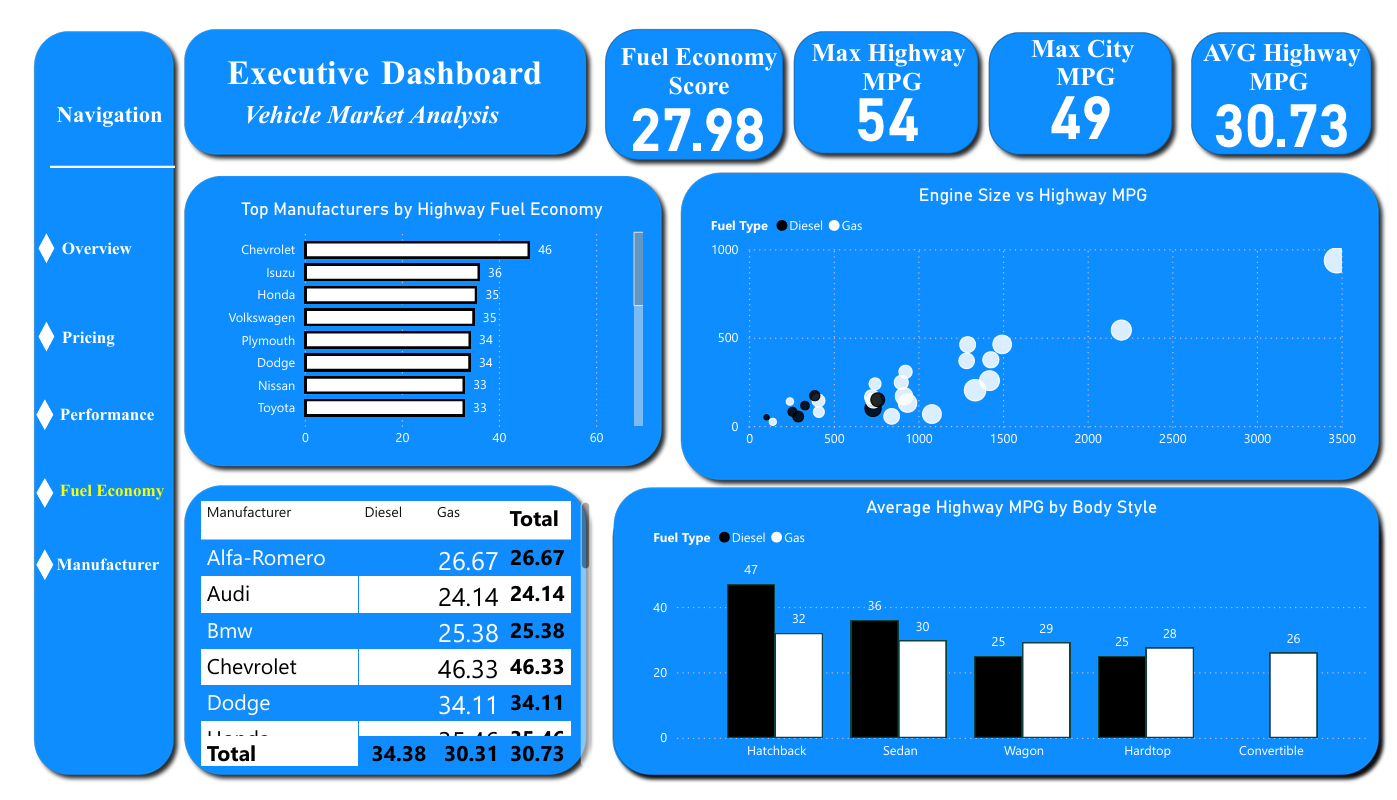

Layout of this report page (visuals, bound fields, positions):
{"tool":"powerbi","page":{"name":"Fuel Economy Analysis","canvas":[1280,720],"ordinal":3},"visuals":[{"type":"shape","box":[543.4,443.5,736.6,275.8],"z":0},{"type":"shape","box":[141.1,429.4,394.9,289.9],"z":1000},{"type":"shape","box":[606.5,134.8,673.9,307.2],"z":2000},{"type":"shape","box":[141.1,0,394.9,136.3],"z":3000},{"type":"shape","box":[1086.1,3.1,186.5,133.2],"z":4000},{"type":"shape","box":[896.5,3.1,189.6,133.2],"z":5000},{"type":"shape","box":[713.1,1.6,191.2,133.2],"z":6000},{"type":"shape","box":[536,0,184.9,141.1],"z":7000},{"type":"card","fields":{"Values":["Measures (2).Fuel Economy Score"]},"box":[545.4,48.6,172.4,95.6],"z":8000},{"type":"shape","box":[0,1.6,148.9,717.8],"z":9000},{"type":"textbox","box":[545.4,17.2,175.5,69],"z":10000},{"type":"card","fields":{"Values":["Measures (2).Maximum Highway MPG"]},"box":[719.4,42.3,178.7,90.9],"z":11000},{"type":"textbox","box":[724.1,12.5,180.2,67.4],"z":12000},{"type":"textbox","box":[904.3,9.4,183.4,67.4],"z":13000},{"type":"card","fields":{"Values":["Measures (2).Maximum City MPG"]},"box":[895.8,33.5,191.4,104.1],"z":14000},{"type":"card","fields":{"Values":["Measures (2).Average Highway MPG"]},"box":[1106.5,40.7,147.3,103.4],"z":15000},{"type":"textbox","box":[1083,12.5,194.3,67.4],"z":16000},{"type":"shape","box":[543.8,431,736.6,288.4],"z":17000},{"type":"textbox","box":[126.9,26.6,421.6,84.6],"z":18000},{"type":"textbox","box":[200.6,70.5,299.3,45.4],"z":19000},{"type":"shape","box":[24.2,76.2,117.1,124.5],"z":20000},{"type":"textbox","box":[24.2,72.5,117.1,48.3],"z":21000},{"type":"shape","box":[12.5,200.6,15.7,28.2],"z":22000},{"type":"shape","box":[12.5,283.7,15.7,28.2],"z":23000},{"type":"textbox","box":[29.8,200.6,108.1,42.3],"z":24000},{"type":"textbox","box":[29.8,285.2,97.2,51.7],"z":25000},{"type":"shape","box":[11,357.3,15.7,28.2],"z":26000},{"type":"textbox","box":[28.2,357.3,133.2,34.5],"z":27000},{"type":"shape","box":[11,431,15.7,28.2],"z":28000},{"type":"textbox","box":[28.2,429.4,148.9,37.6],"z":29000},{"type":"textbox","box":[25,498.3,116.7,28.3],"z":30000},{"type":"shape","box":[11,498.4,15.7,28.2],"z":31000},{"type":"shape","box":[141.1,137.9,465.5,291.5],"z":32000},{"type":"clusteredBarChart","title":"Top Manufacturers by Highway Fuel Economy","fields":{"Category":["Cars.Manufacturer"],"Y":["Measures (2).Average Highway MPG"]},"box":[161.4,167.7,423.2,242.9],"z":33000},{"type":"scatterChart","title":"Engine Size vs Highway MPG","fields":{"Category":["Cars.Manufacturer"],"X":["Sum(Cars.Engine Size)"],"Y":["Sum(Cars.Highway MPG)"],"Size":["Sum(Cars.Price)"],"Series":["Cars.Fuel Type"]},"box":[639.4,155.2,614.4,257],"z":34000},{"type":"pivotTable","fields":{"Rows":["Cars.Manufacturer"],"Columns":["Cars.Fuel Type"],"Values":["Measures (2).Average Highway MPG"]},"box":[161.4,448.2,374.6,258.6],"z":35000},{"type":"clusteredColumnChart","title":"Average Highway MPG by Body Style","fields":{"Category":["Cars.Body Style"],"Series":["Cars.Fuel Type"],"Y":["Measures (2).Average Highway MPG"]},"box":[585,448.3,683.3,256.7],"z":36001}]}

Visuals, with their boxes in screenshot pixels (x1, y1, x2, y2), scaled from the page's 1280x720 canvas onto the 1397x800 screenshot:
shape: bbox=(593, 493, 1396, 799)
shape: bbox=(154, 477, 585, 799)
shape: bbox=(662, 150, 1396, 491)
shape: bbox=(154, 0, 585, 151)
shape: bbox=(1185, 3, 1389, 151)
shape: bbox=(978, 3, 1185, 151)
shape: bbox=(778, 2, 987, 150)
shape: bbox=(585, 0, 787, 157)
card - Measures (2).Fuel Economy Score: bbox=(595, 54, 783, 160)
shape: bbox=(0, 2, 163, 799)
textbox: bbox=(595, 19, 787, 96)
card - Measures (2).Maximum Highway MPG: bbox=(785, 47, 980, 148)
textbox: bbox=(790, 14, 987, 89)
textbox: bbox=(987, 10, 1187, 85)
card - Measures (2).Maximum City MPG: bbox=(978, 37, 1187, 153)
card - Measures (2).Average Highway MPG: bbox=(1208, 45, 1368, 160)
textbox: bbox=(1182, 14, 1394, 89)
shape: bbox=(594, 479, 1396, 799)
textbox: bbox=(138, 30, 599, 124)
textbox: bbox=(219, 78, 546, 129)
shape: bbox=(26, 85, 154, 223)
textbox: bbox=(26, 81, 154, 134)
shape: bbox=(14, 223, 31, 254)
shape: bbox=(14, 315, 31, 347)
textbox: bbox=(33, 223, 151, 270)
textbox: bbox=(33, 317, 139, 374)
shape: bbox=(12, 397, 29, 428)
textbox: bbox=(31, 397, 176, 435)
shape: bbox=(12, 479, 29, 510)
textbox: bbox=(31, 477, 193, 519)
textbox: bbox=(27, 554, 155, 585)
shape: bbox=(12, 554, 29, 585)
shape: bbox=(154, 153, 662, 477)
"Top Manufacturers by Highway Fuel Economy" clusteredBarChart: bbox=(176, 186, 638, 456)
"Engine Size vs Highway MPG" scatterChart: bbox=(698, 172, 1368, 458)
pivotTable - Cars.Manufacturer x Cars.Fuel Type: bbox=(176, 498, 585, 785)
"Average Highway MPG by Body Style" clusteredColumnChart: bbox=(638, 498, 1384, 783)
